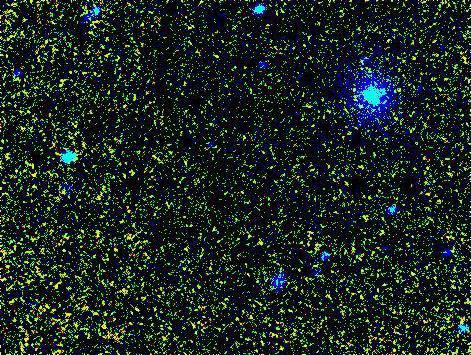star: (380, 75, 410, 105)
